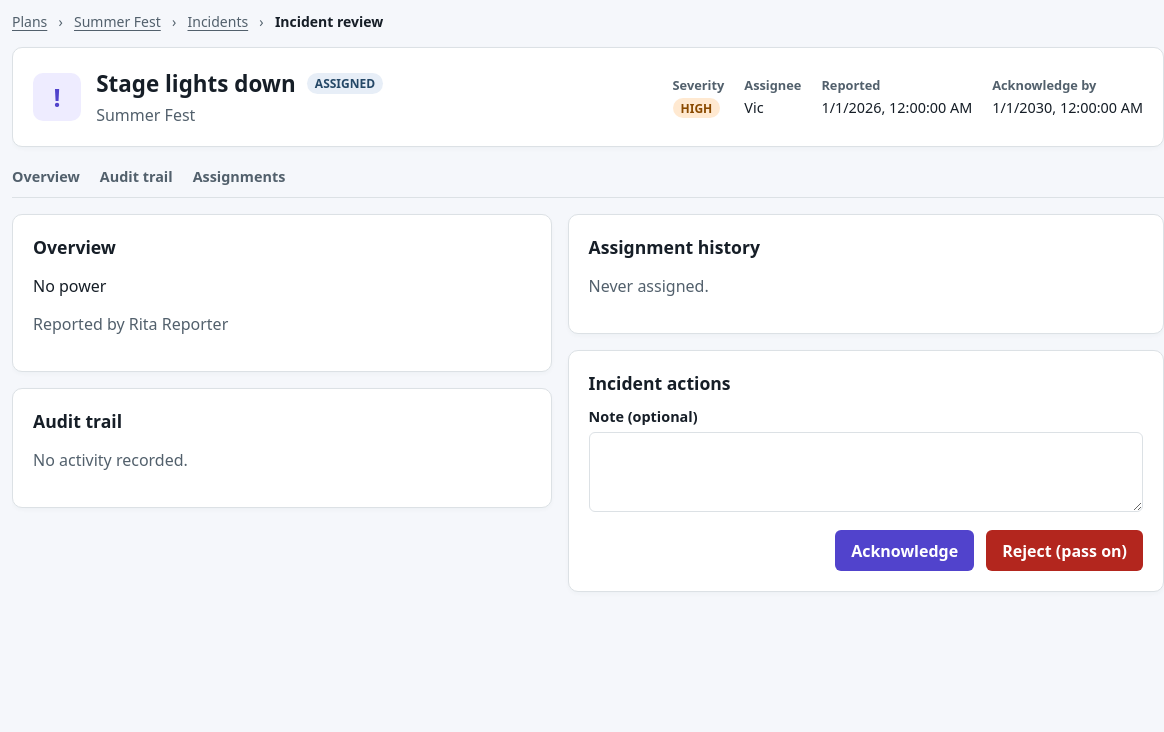
it: IncidentDetailPage › explains a 409 (escalated past you) and refreshes to the true state
The width and height of the screenshot is (1164, 732).
Click the button "Acknowledge" at (905, 551), box left=835, top=530, right=974, bottom=571
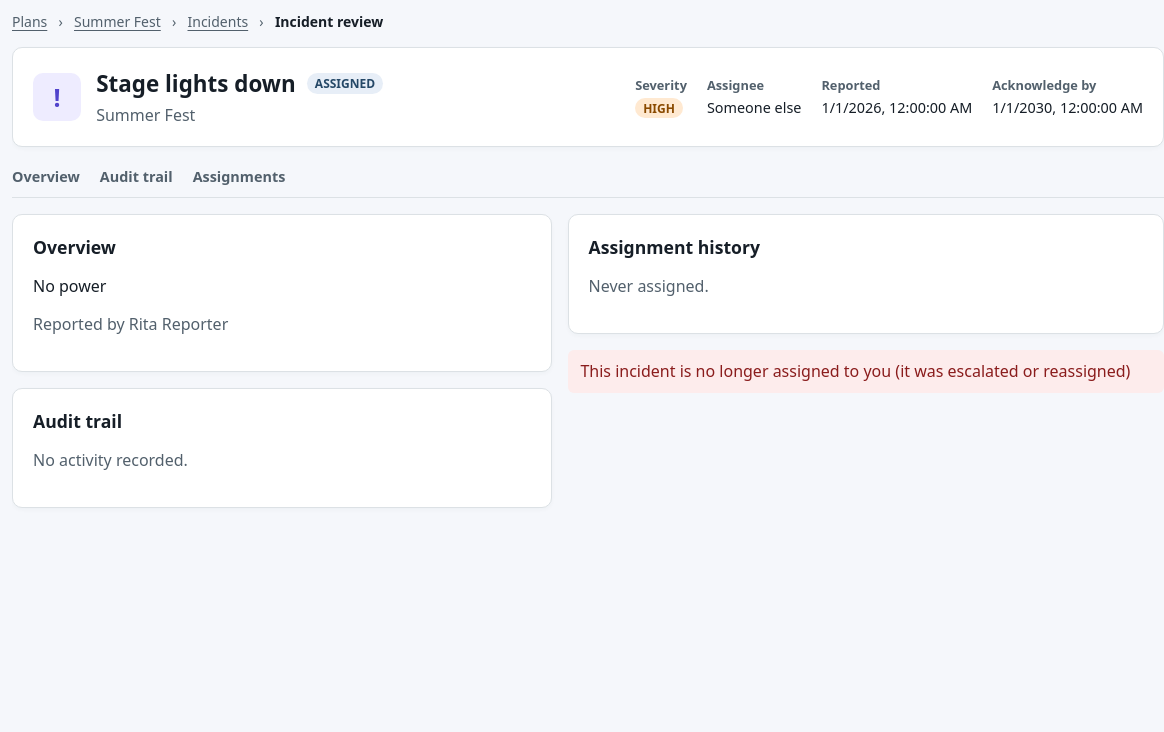
Check: the message shows "no longer assigned to you", box left=580, top=360, right=1130, bottom=382
